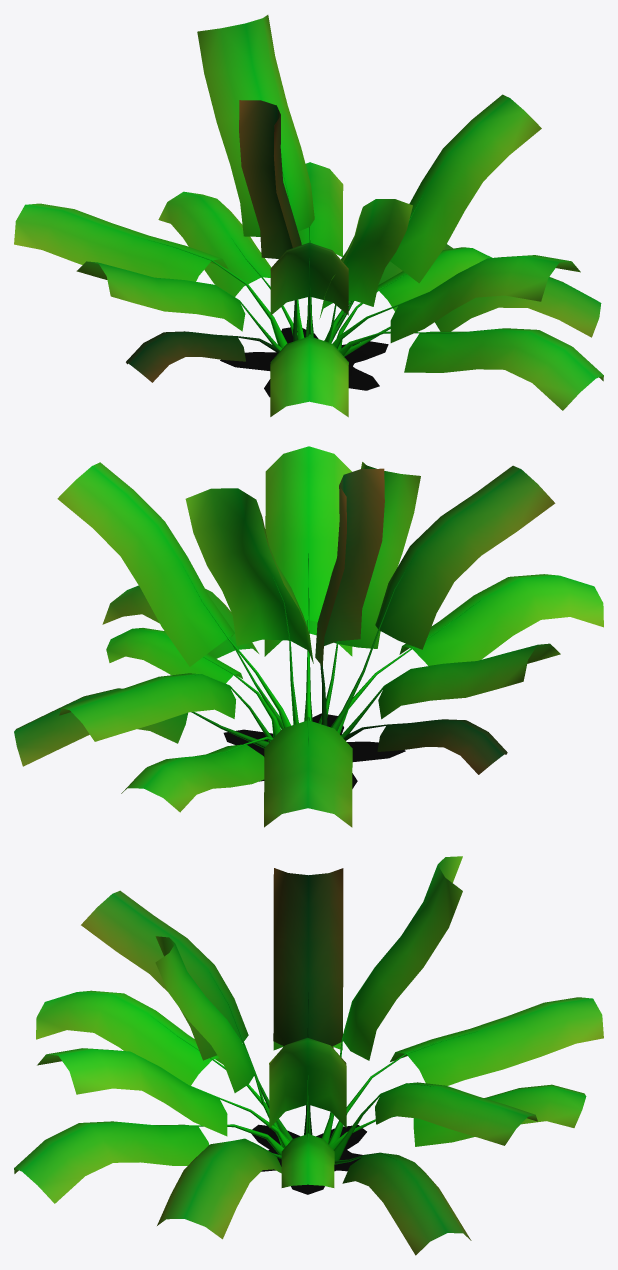
File: Fern 3.fbx
3 renders of one model, top to bottom at view 1: azimuth 30°, elevation 25°; view 2: azimuth 150°, elevation 25°; view 3: azimuth 270°, elevation 25°, orthographic. The views are drawn at different scales.
Visible parts, largest first — view 1: _1, _0; view 2: _1, _0; view 3: _1, _0.
Part boxes in pixels (box(x1,y1,x2,y2)): _1: box(14, 15, 603, 417); _0: box(147, 171, 487, 397); _1: box(14, 446, 603, 827); _0: box(176, 553, 479, 788); _1: box(14, 856, 603, 1255); _0: box(132, 973, 471, 1194).
Bounding box in the file's own units: 298 × 188 × 338.
